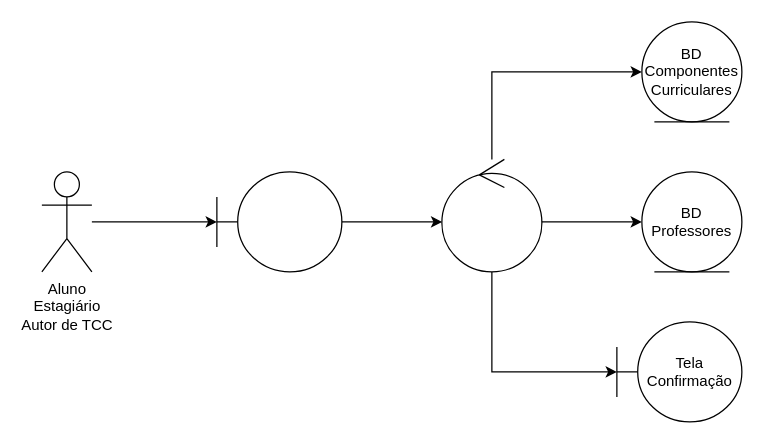
This 764x444 diagram has some shape labels left out. Each missing label, with the centre of its shape:
Controlador Solicitar Professor Monitoria: the point at 491,215
Tela Solicitar Professor Monitoria: the point at 279,221
